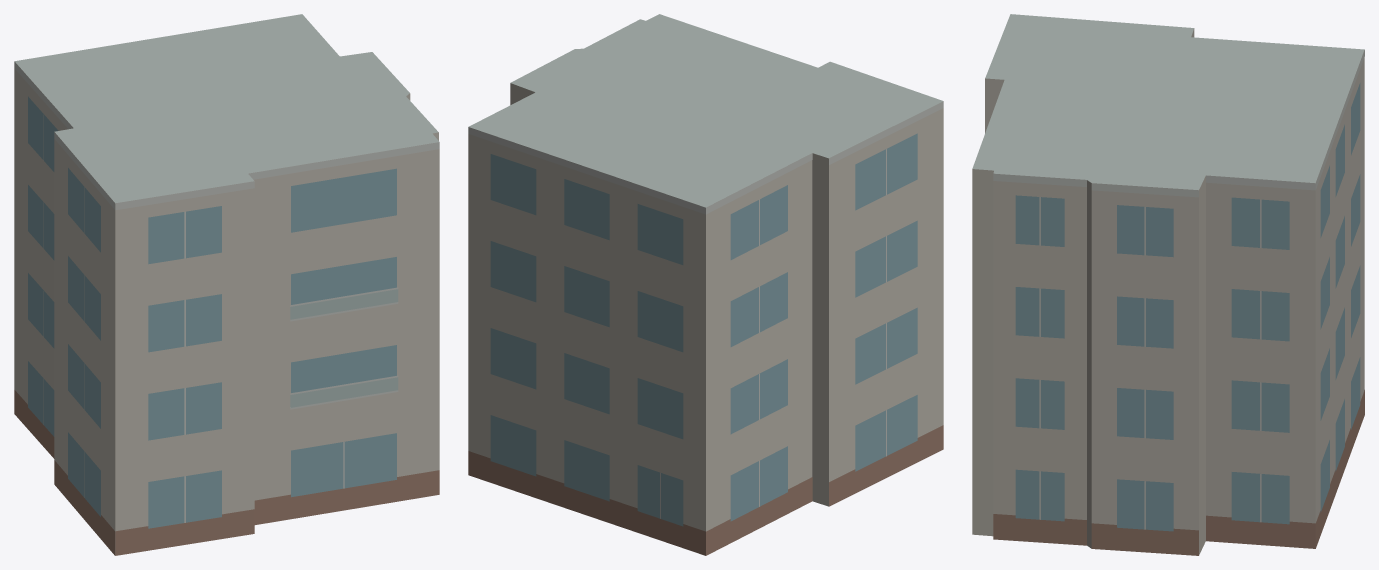
File: survey-upis-33045856.glb
3 views of the same model, side by side, from view 1: azimuth 30°, elevation 25°; view 2: azimuth 150°, elevation 25°; view 3: azimuth 270°, elevation 25° (orthographic). The views are drawn at different scales.
Visible parts, largest first — view 1: survey-upis-33045856.tmp; view 2: survey-upis-33045856.tmp; view 3: survey-upis-33045856.tmp.
Part boxes in pixels (x1=…): survey-upis-33045856.tmp: x1=14, y1=14, x2=439, y2=555; survey-upis-33045856.tmp: x1=468, y1=14, x2=943, y2=555; survey-upis-33045856.tmp: x1=972, y1=14, x2=1364, y2=555.
Bounding box in the file's own units: 12.66 × 12.25 × 11.92.
